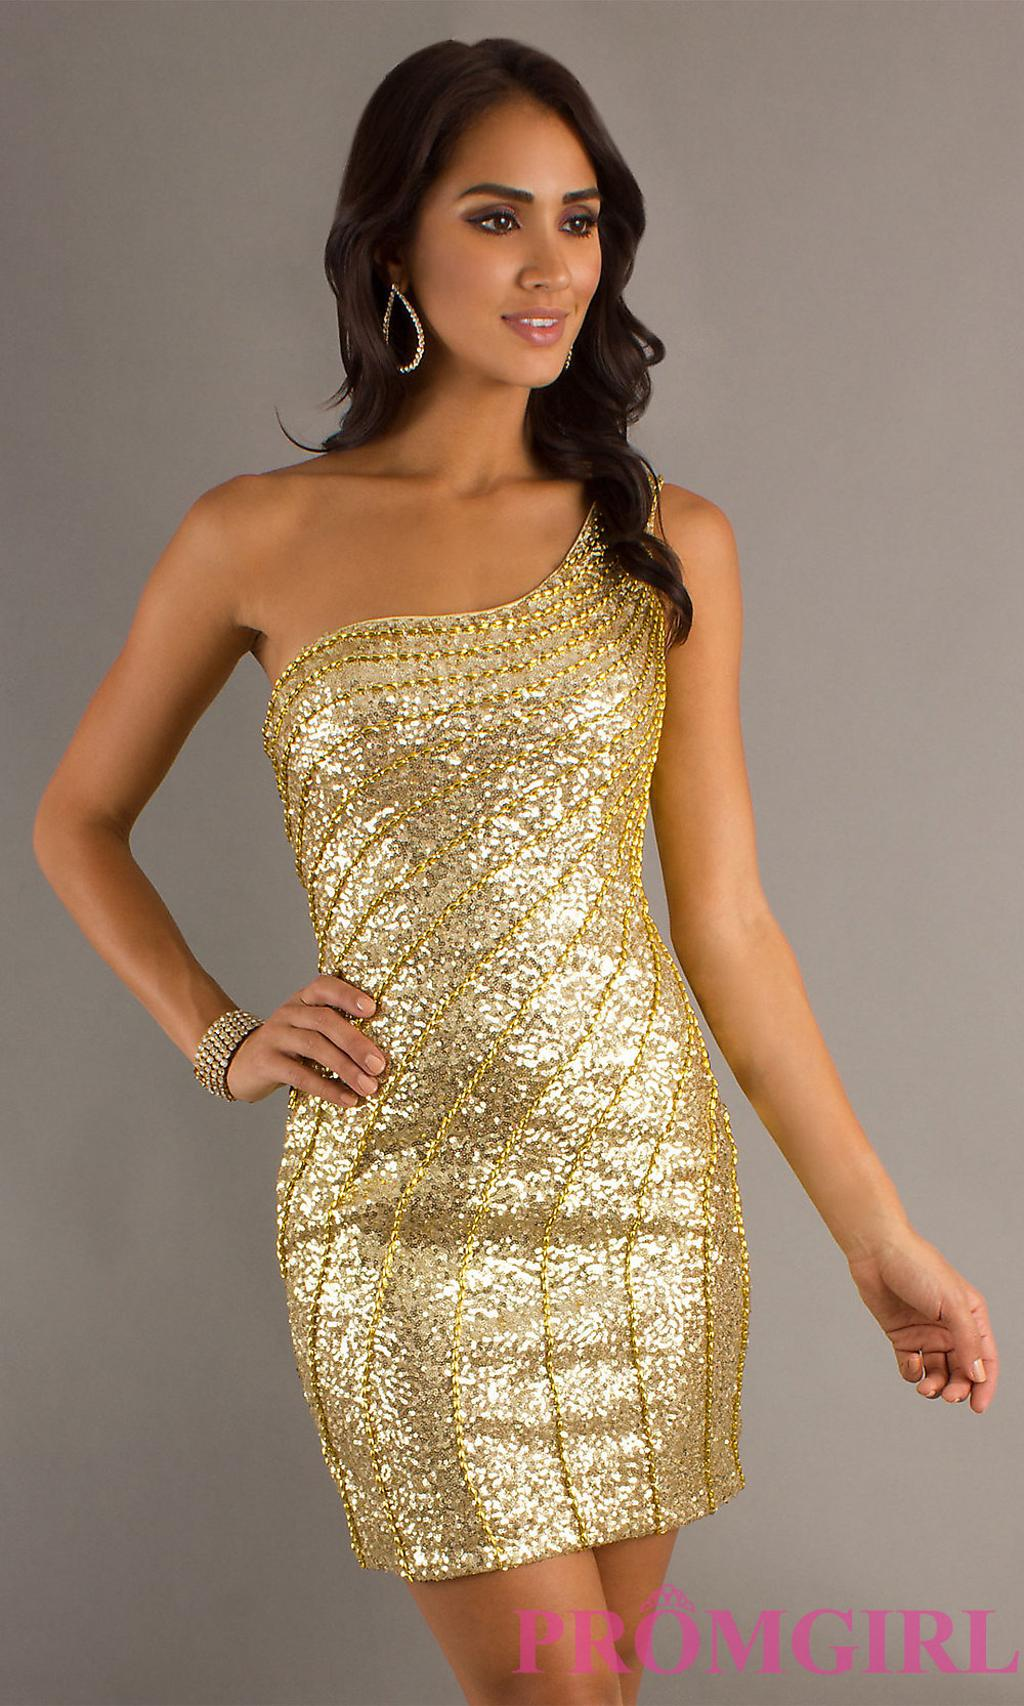face: (407, 103, 604, 387)
